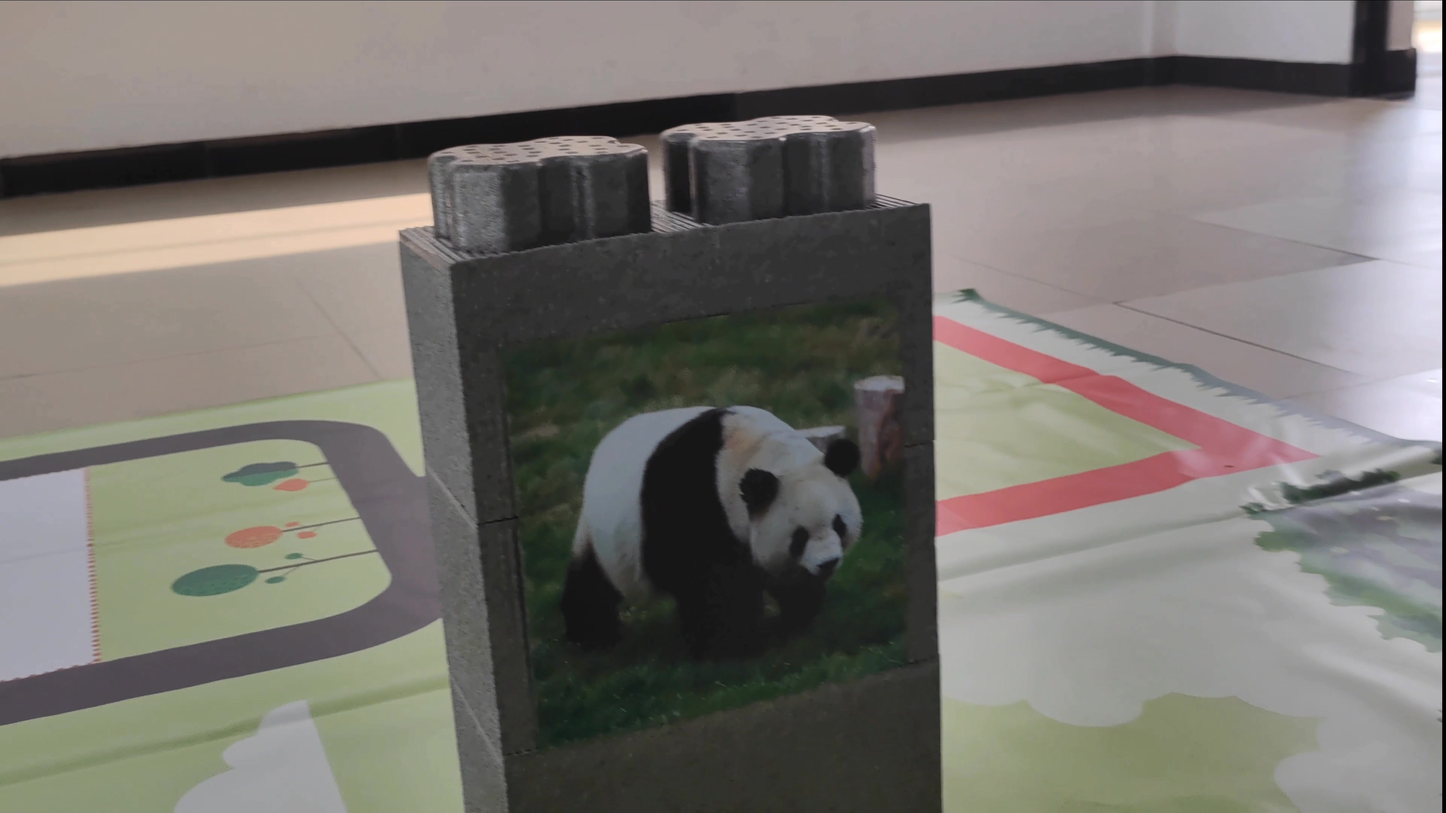panda: (566, 381, 874, 690)
